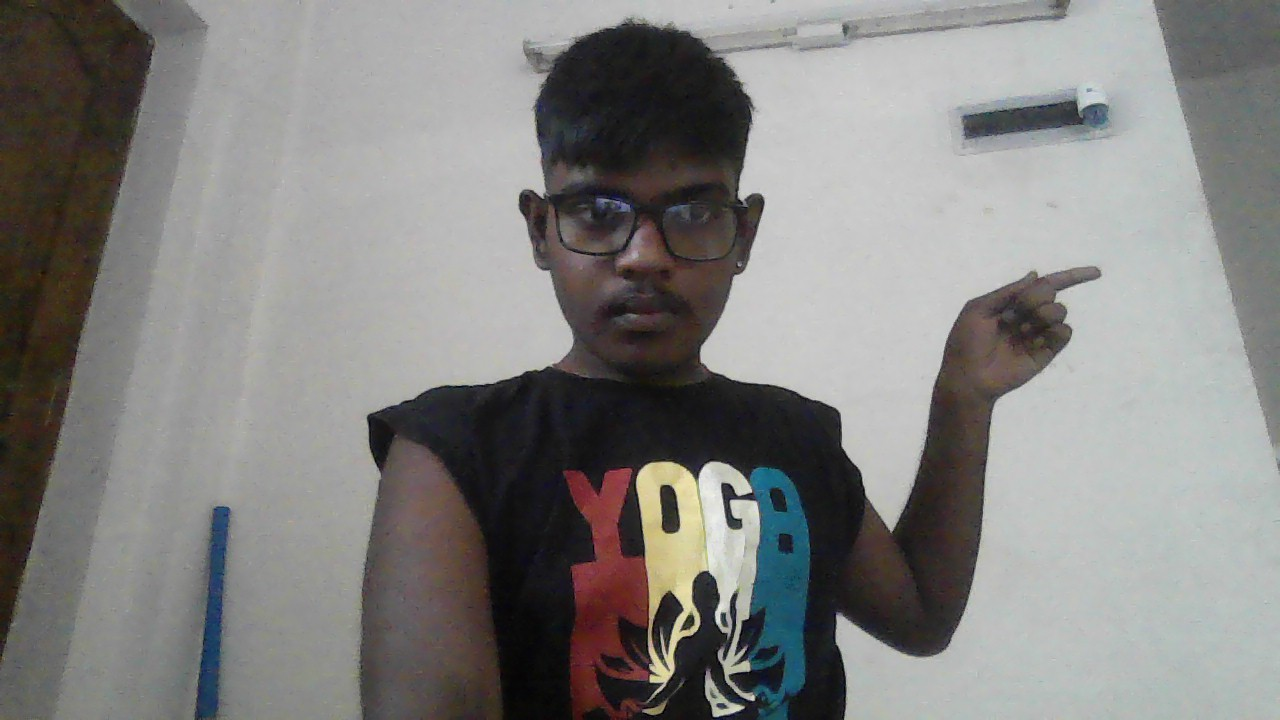G: (934, 265, 1102, 418)
